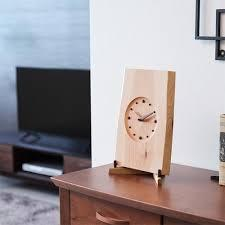clock: (108, 69, 175, 185)
table: (50, 159, 223, 225)
tv: (15, 64, 92, 146)
